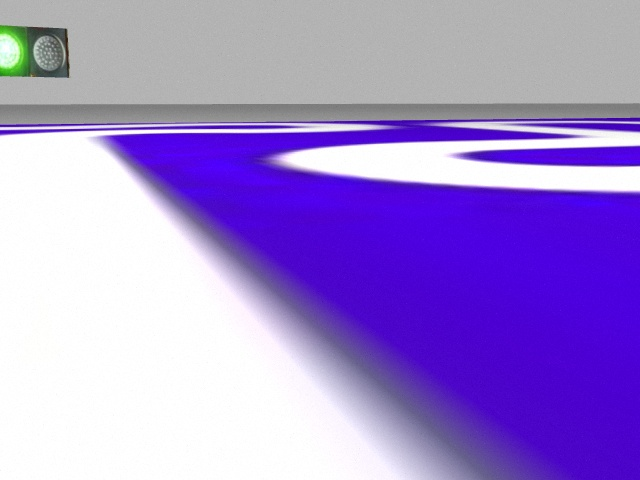green: (1, 28, 32, 74)
